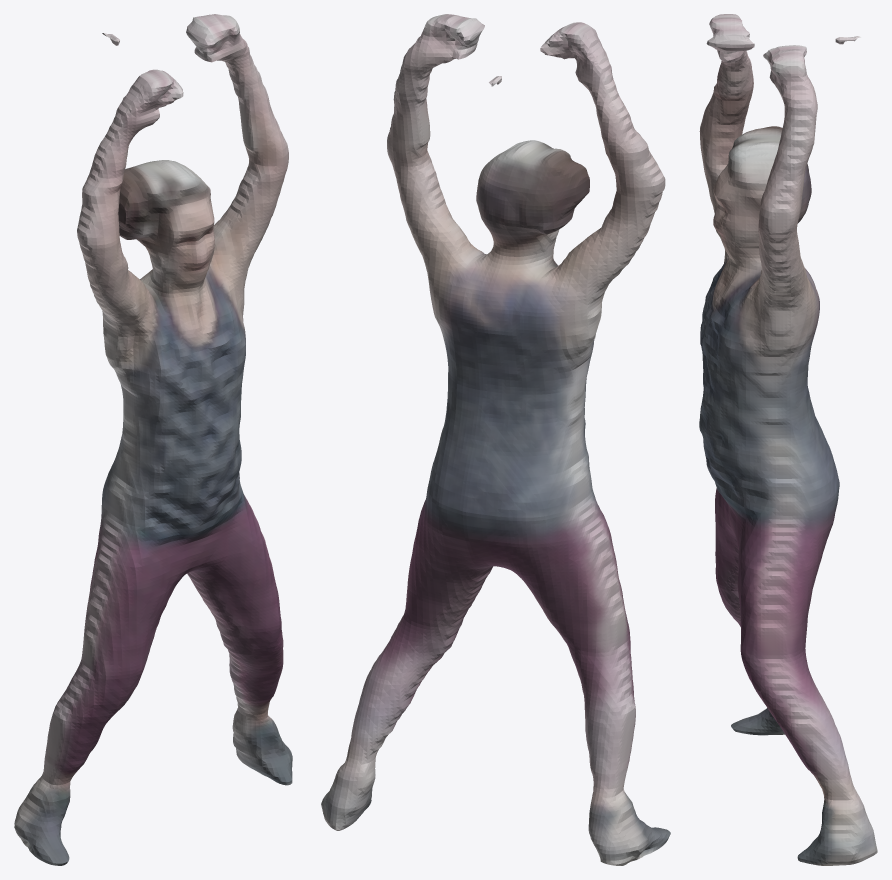
File: 0061_tex.glb
3 views of the same model, side by side, from view 1: azimuth 30°, elevation 25°; view 2: azimuth 150°, elevation 25°; view 3: azimuth 270°, elevation 25° (orthographic). The views are drawn at different scales.
Parts seen in each view (by area): view 1: 0061_tex.obj; view 2: 0061_tex.obj; view 3: 0061_tex.obj.
Boxes of the visible parts, x1,y1,x2,y2 form: 0061_tex.obj: (14,14,292,865); 0061_tex.obj: (321,14,670,865); 0061_tex.obj: (699,14,877,865).
Size of the model in its own units: 0.343 by 0.892 by 0.1867.
